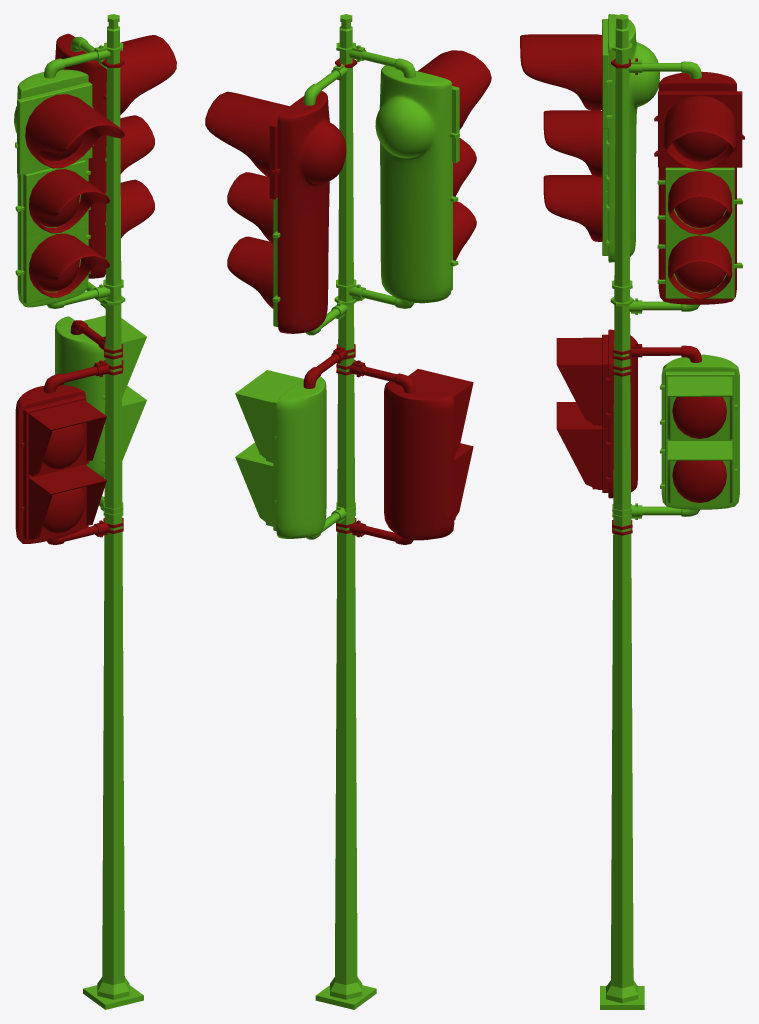
Rendered from trafficlight.obj.
3 views of the same model, side by side, from view 1: azimuth 30°, elevation 25°; view 2: azimuth 150°, elevation 25°; view 3: azimuth 270°, elevation 25° (orthographic).
Visible parts, largest first — view 1: polyToSubd, polyToSu15, polyToSu10, polyToSub1, polyToSub7, polySurfa1, polyToSu14, polyToSu16, polySurfa2, polyToSub2, polyToSu12, pCube53 (+16 smaller); view 2: polyToSubd, polyToSub2, polyToSu10, polyToSu12, polyToSub1, polyToSub7, polySurfac, polyToSu15, polyToSub9, polyToSub8, polySurfa0, polySurfa1 (+5 smaller); view 3: polyToSubd, polyToSu15, polyToSub2, polyToSub7, polySurfa1, polyToSu10, polyToSu14, polyToSu16, polySurfa2, polyToSub1, pCube69, polyToSub8 (+17 smaller).
Part boxes in pixels (x1=…): polyToSubd: x1=97, y1=14, x2=129, y2=999; polyToSu15: x1=25, y1=94, x2=124, y2=168; polyToSu10: x1=55, y1=33, x2=106, y2=278; polyToSub1: x1=55, y1=316, x2=105, y2=477; polyToSub7: x1=120, y1=35, x2=176, y2=114; polySurfa1: x1=28, y1=400, x2=106, y2=475; polyToSu14: x1=29, y1=169, x2=109, y2=233; polyToSu16: x1=29, y1=233, x2=109, y2=297; polySurfa2: x1=28, y1=464, x2=106, y2=539; polyToSub2: x1=14, y1=69, x2=88, y2=307; polyToSu12: x1=15, y1=385, x2=86, y2=543; pCube53: x1=17, y1=82, x2=92, y2=175; polyToSubd: x1=330, y1=14, x2=362, y2=999; polyToSub2: x1=375, y1=65, x2=451, y2=303; polyToSu10: x1=277, y1=90, x2=346, y2=333; polyToSu12: x1=384, y1=381, x2=454, y2=540; polyToSub1: x1=276, y1=376, x2=326, y2=538; polyToSub7: x1=205, y1=91, x2=289, y2=177; polySurfac: x1=235, y1=370, x2=303, y2=462; polyToSu15: x1=417, y1=50, x2=491, y2=129; polyToSub9: x1=227, y1=236, x2=273, y2=308; polyToSub8: x1=227, y1=172, x2=273, y2=244; polySurfa0: x1=235, y1=442, x2=273, y2=526; polySurfa1: x1=408, y1=369, x2=473, y2=454; polyToSubd: x1=606, y1=14, x2=638, y2=1003; polyToSu15: x1=520, y1=34, x2=602, y2=110; polyToSub2: x1=608, y1=14, x2=659, y2=262; polyToSub7: x1=663, y1=95, x2=736, y2=169; polySurfa1: x1=556, y1=337, x2=602, y2=425; polyToSu10: x1=658, y1=71, x2=736, y2=304; polyToSu14: x1=543, y1=110, x2=602, y2=177; polyToSu16: x1=543, y1=175, x2=602, y2=241; polySurfa2: x1=556, y1=402, x2=602, y2=489; polyToSub1: x1=661, y1=354, x2=739, y2=509; pCube69: x1=658, y1=91, x2=742, y2=167; polyToSub8: x1=668, y1=171, x2=732, y2=234.
Size of the model in its own units: 986 by 4768 by 988.
